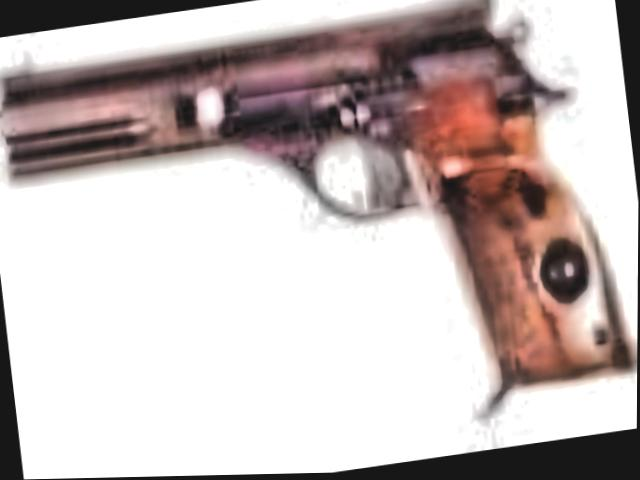pistol: (0, 0, 632, 461)
